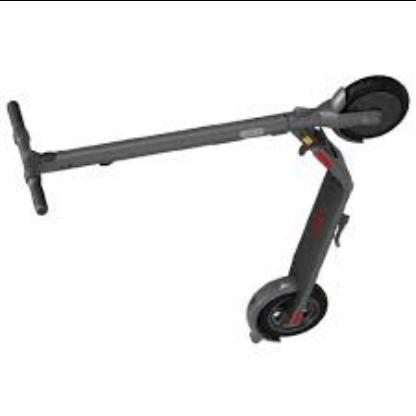bike: (2, 75, 411, 346)
